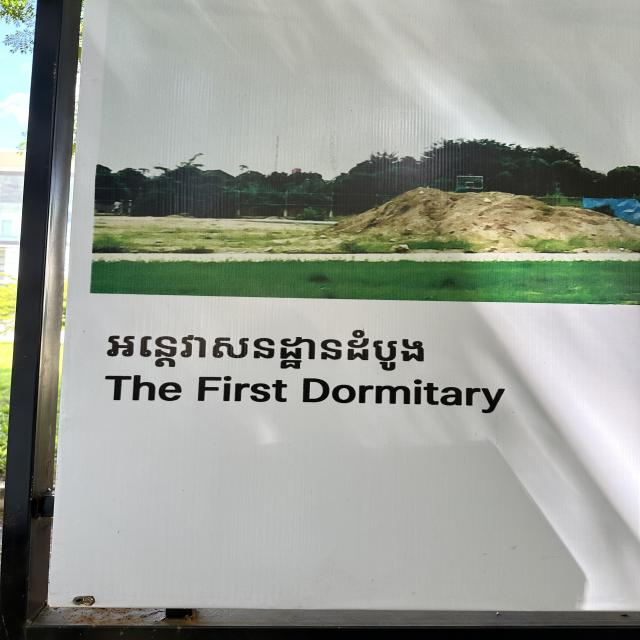Yolov11_80vkh: (90, 321, 432, 374)
